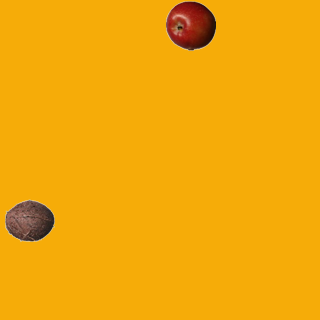Apple Braeburn: (165, 0, 215, 50)
Cocos: (4, 195, 54, 245)
